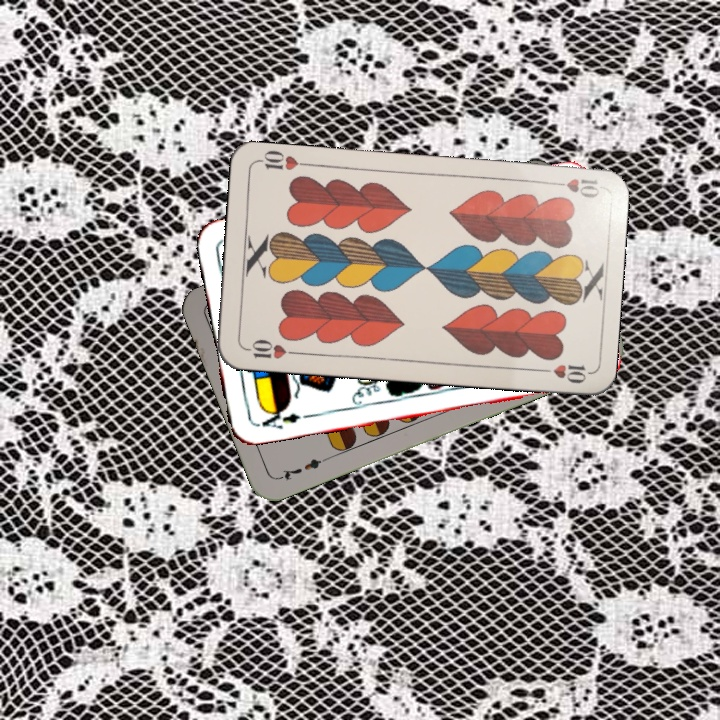E7: (274, 453, 330, 483)
EA: (252, 403, 304, 432)
H10: (241, 335, 300, 362), (544, 174, 602, 201)
